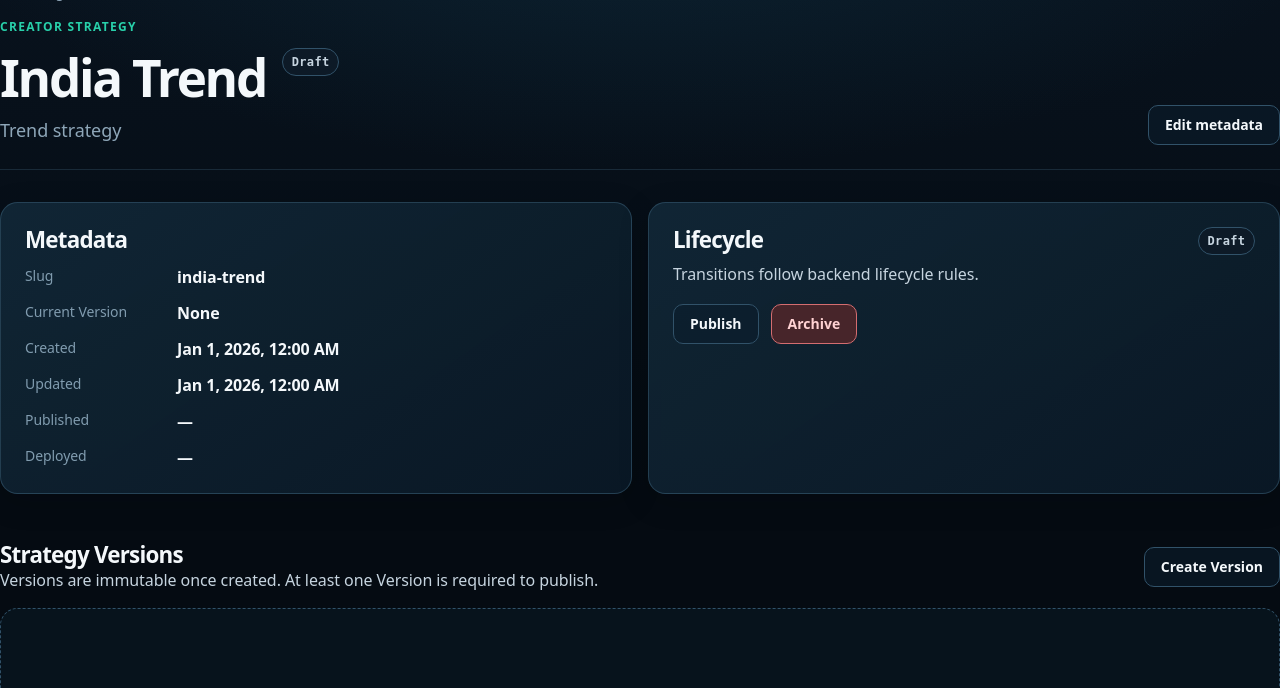
Scenario: Instrument search in VersionCreator › shows an error when instrument API fails
Click the button "Create Version": (1212, 567) left=1144, top=547, right=1279, bottom=587
(page scrolled)
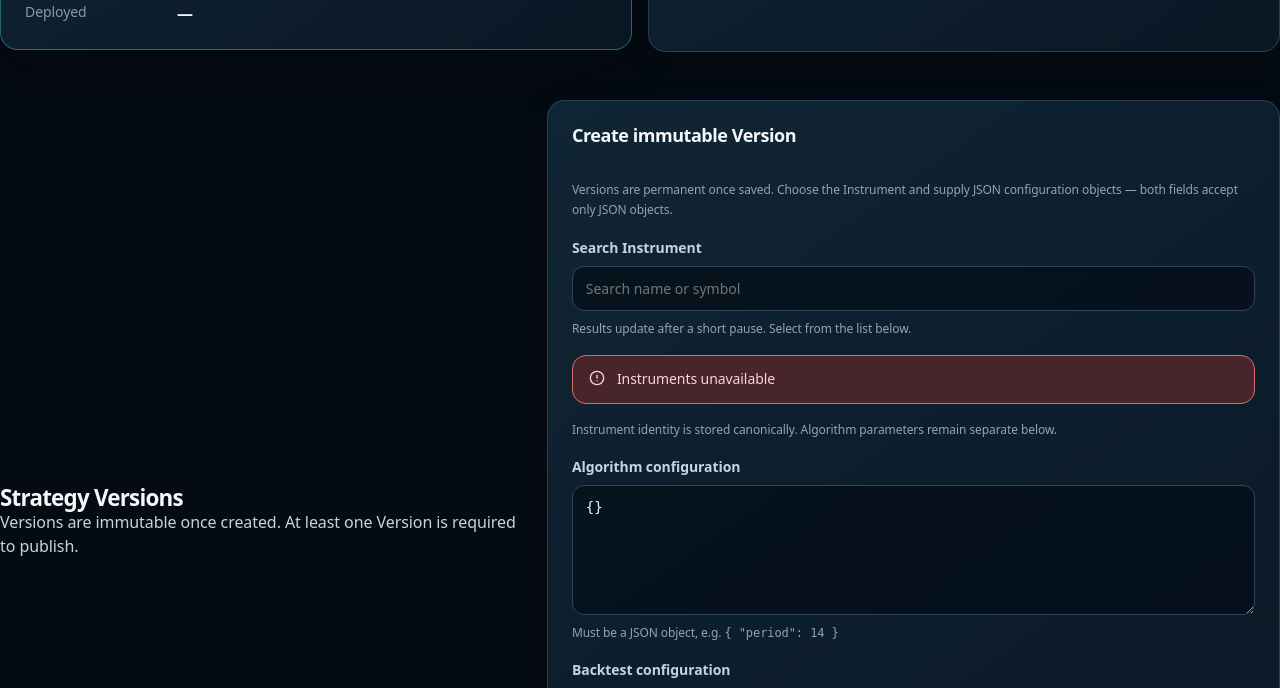
expect the text "Instruments unavailable" is shown: met, box left=617, top=370, right=775, bottom=388
